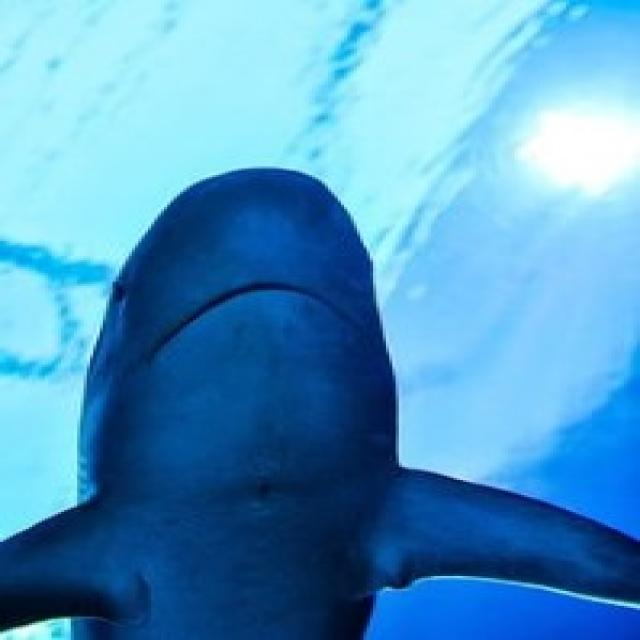Shark: (0, 144, 640, 640)
